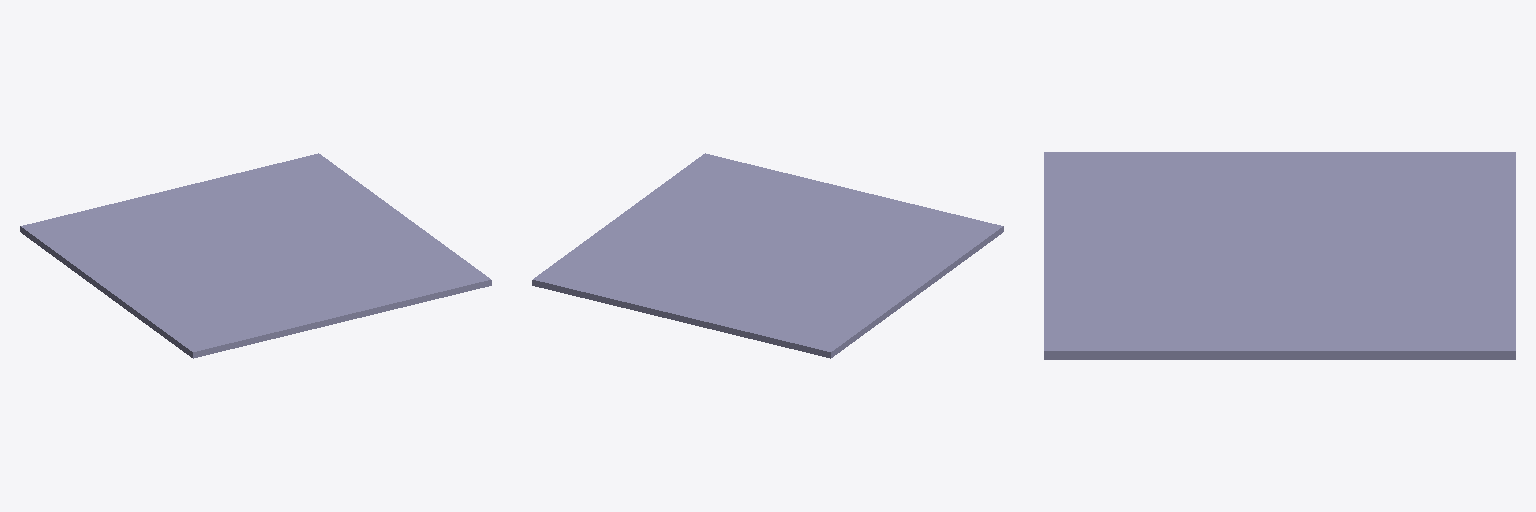
The robot description file, URDF, robot "plane":
<?xml version="0.0" ?>
<robot name="plane">
  <link name="planeLink">
  <contact>
      <lateral_friction value="1"/>
  </contact>
    <inertial>
      <origin rpy="0 0 0" xyz="0 0 0"/>
       <mass value=".0"/>
       <inertia ixx="0" ixy="0" ixz="0" iyy="0" iyz="0" izz="0"/>
    </inertial>
    <visual>
      <origin rpy="0 0 0" xyz="0 0 -5"/>
      <geometry>
        <box size="500 500 10"/>
      </geometry>
       <material name="purple">
        <color rgba=".64 .64 .76 1"/>
      </material>
    </visual>
    <collision>
      <origin rpy="0 0 0" xyz="0 0 -5"/>
      <geometry>
        <box size="500 500 10"/>
      </geometry>
    </collision>
  </link>
</robot>

--- Render facts (derived) ---
The picture shows the robot from 3 angles, left to right: view 1: azimuth 30°, elevation 25°; view 2: azimuth 150°, elevation 25°; view 3: azimuth 270°, elevation 25°; orthographic projection.
Model plane with 1 links and 0 joints (none), rooted at planeLink, posed all joints at 0.
Visible links, largest first — view 1: planeLink; view 2: planeLink; view 3: planeLink.
Link boxes in pixels (bbox=[...]): planeLink: bbox=[20, 153, 491, 358]; planeLink: bbox=[532, 153, 1003, 358]; planeLink: bbox=[1044, 152, 1515, 359].
Bounding box of the posed robot: 500 × 500 × 10 m (x, y, z).
Geometry: primitives only (box / cylinder / sphere), no mesh files.